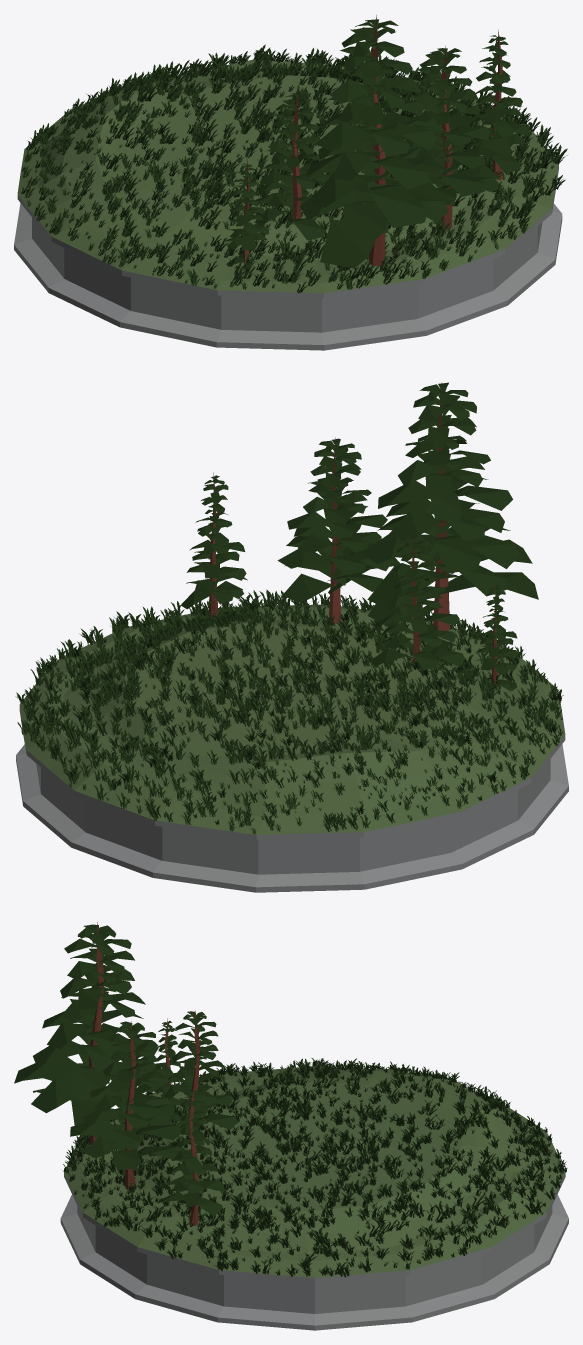
Rendered from ForestBase.fbx.
3 views of the same model, one above another, from view 1: azimuth 30°, elevation 25°; view 2: azimuth 150°, elevation 25°; view 3: azimuth 270°, elevation 25° (orthographic). The views are drawn at different scales.
Visible parts, largest first — view 1: Cylinder.003, Cylinder.004, Leaf.071, Leaf.062, Leaf.069, Leaf.076, Leaf.073, Trunk.001, Leaf.084, Leaf.065, Leaf.078, Leaf.083 (+12 smaller); view 2: Cylinder.003, Cylinder.004, Leaf.066, Leaf.072, Leaf.073, Leaf.062, Leaf.074, Leaf.079, Leaf.084, Trunk.001, Leaf.187, Leaf.065 (+4 smaller); view 3: Cylinder.003, Cylinder.004, Leaf.070, Leaf.071, Leaf.067, Leaf.076, Trunk.004, Leaf.083, Trunk.001, Leaf.192, Leaf.081.
Part boxes in pixels (box(x1,y1,x2,y2)): Cylinder.003: box(17, 59, 558, 293); Cylinder.004: box(14, 165, 562, 350); Leaf.071: box(369, 185, 428, 227); Leaf.062: box(320, 219, 375, 268); Leaf.069: box(342, 203, 387, 239); Leaf.076: box(369, 156, 428, 189); Leaf.073: box(310, 171, 387, 207); Trunk.001: box(368, 15, 385, 265); Leaf.084: box(316, 121, 371, 151); Leaf.065: box(300, 189, 373, 219); Leaf.078: box(332, 152, 380, 181); Leaf.083: box(369, 122, 436, 150); Cylinder.003: box(19, 604, 565, 834); Cylinder.004: box(16, 707, 568, 892); Leaf.066: box(367, 564, 459, 610); Leaf.072: box(432, 536, 480, 572); Leaf.073: box(452, 534, 519, 568); Leaf.062: box(438, 572, 538, 599); Leaf.074: box(362, 534, 434, 563); Leaf.079: box(388, 511, 447, 541); Leaf.084: box(454, 485, 512, 510); Trunk.001: box(433, 382, 449, 630); Leaf.187: box(282, 573, 341, 602); Leaf.065: box(437, 564, 506, 596); Cylinder.003: box(64, 1066, 565, 1277); Cylinder.004: box(60, 1172, 568, 1330); Leaf.070: box(70, 1065, 105, 1101); Leaf.071: box(14, 1057, 109, 1083); Leaf.067: box(31, 1078, 72, 1113); Leaf.076: box(33, 1040, 87, 1065); Trunk.004: box(125, 1021, 136, 1189); Leaf.083: box(47, 1022, 94, 1049); Trunk.001: box(89, 922, 103, 1145); Leaf.192: box(70, 1120, 119, 1136); Leaf.081: box(85, 1030, 129, 1060).
Size of the model in its own units: 4721 by 3499 by 5150.
